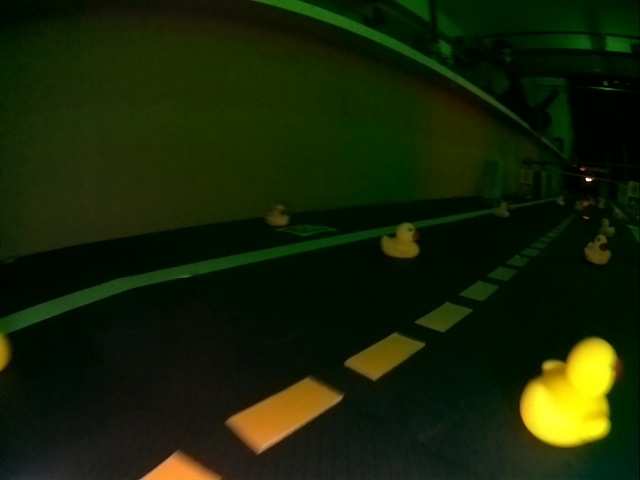Duckie: (520, 337, 619, 444), (381, 221, 421, 259), (583, 235, 613, 268), (264, 201, 289, 226)
